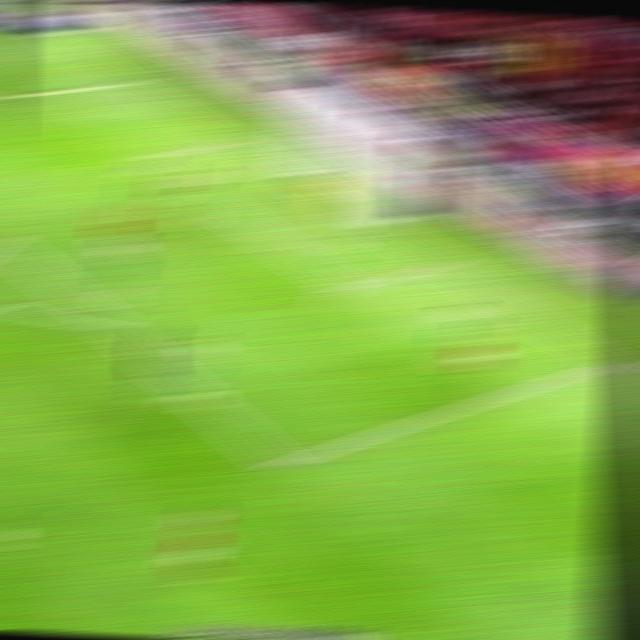bigarea_bottom_inner: (261, 449, 304, 480)
bigarea_bottom_outter: (593, 353, 630, 372)
bigarea_top_outter: (114, 75, 148, 88)
bottom_arc_area_intersection: (90, 313, 128, 336)
corner: (8, 13, 39, 20), (41, 32, 70, 38)
smallarea_bottom_outter: (421, 254, 459, 273)
smallarea_top_inner: (129, 150, 164, 165)
smallarea_top_outter: (592, 351, 630, 374), (216, 134, 250, 150)
